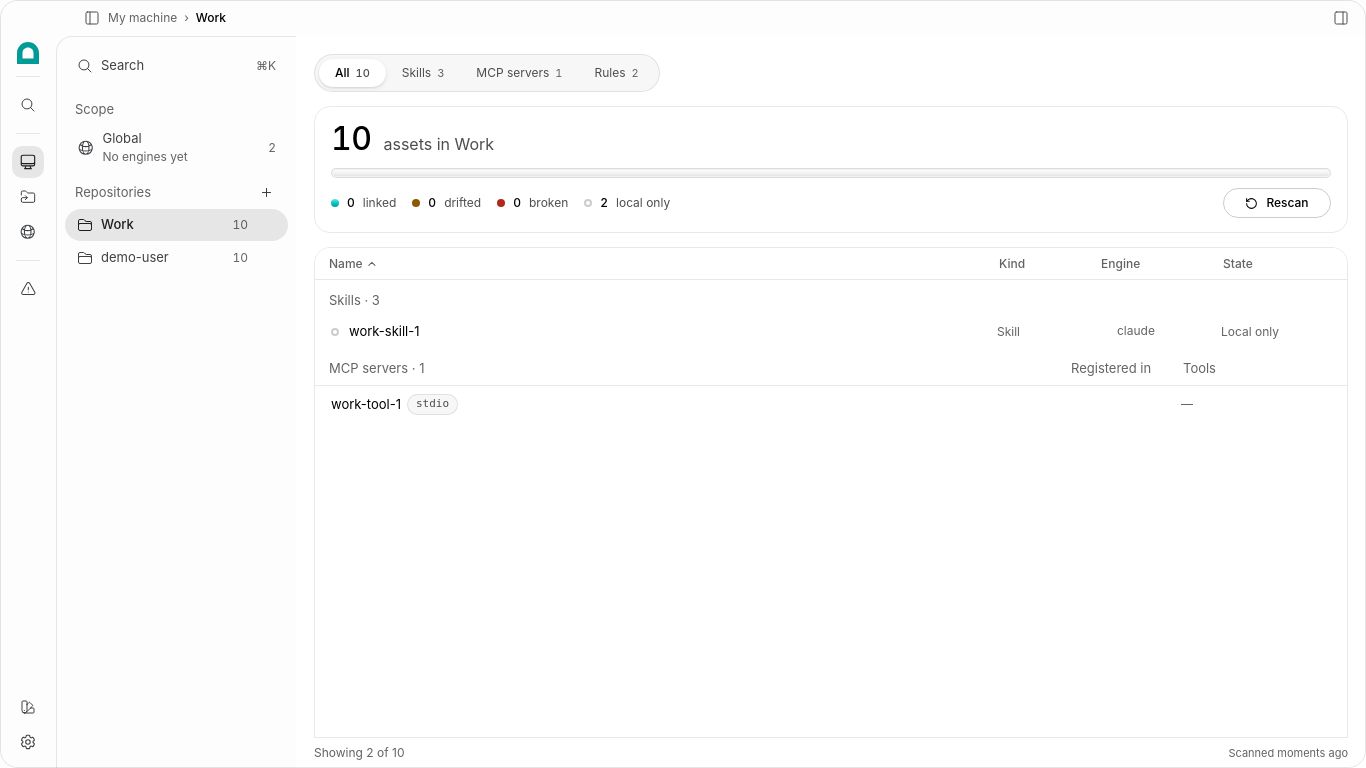
Test: Sidebar Scope Asset List Verification › asserts all three scopes (Work, demo-user, Global) render a non-empty asset list
This screenshot has width=1366, height=768.
Expected: the text "work-skill-1" is shown, [349, 322, 420, 341]
# demo-user Repository Scope
Click the text "demo-user".
click(135, 257)  # box [101, 249, 169, 265]
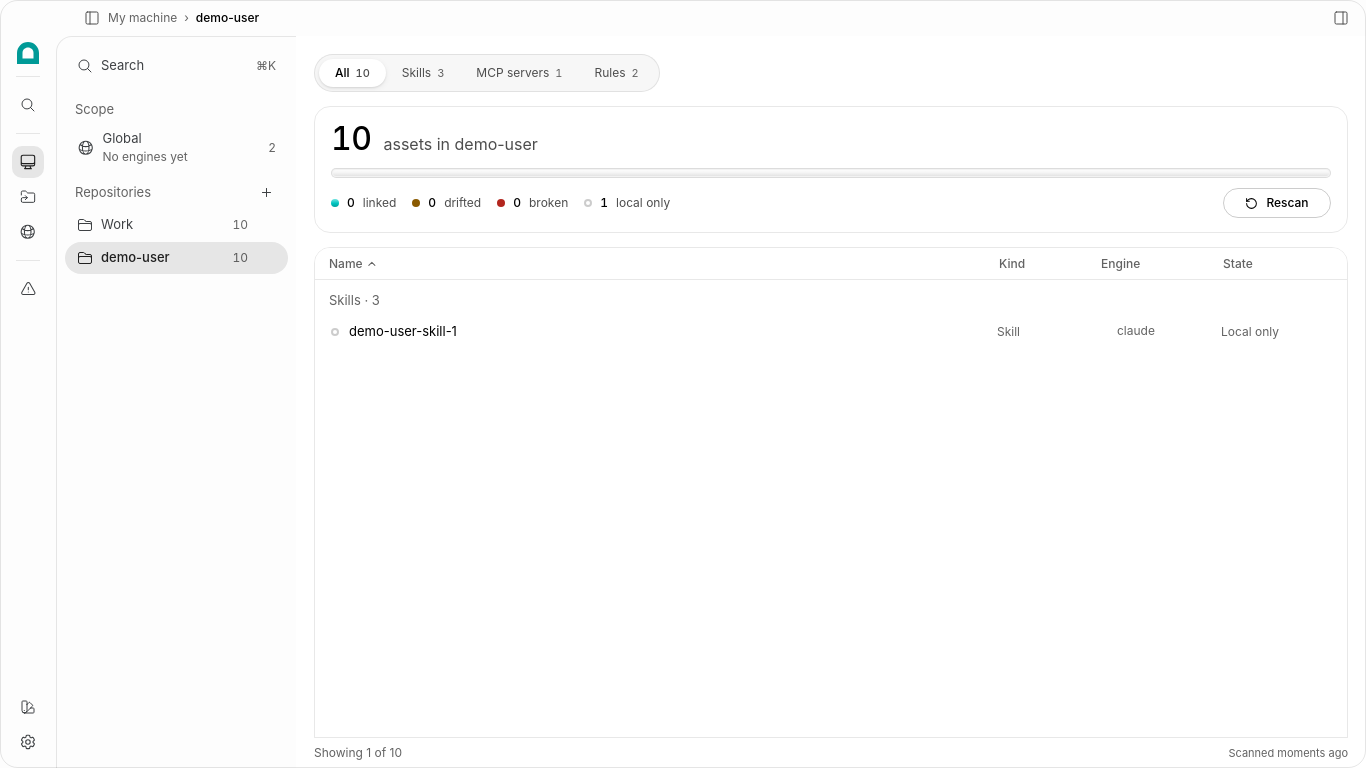
Expected: the text "demo-user-skill-1" is shown, [349, 322, 457, 341]
# Global scope
Click the text "Global".
click(122, 138)  # box [102, 130, 142, 146]
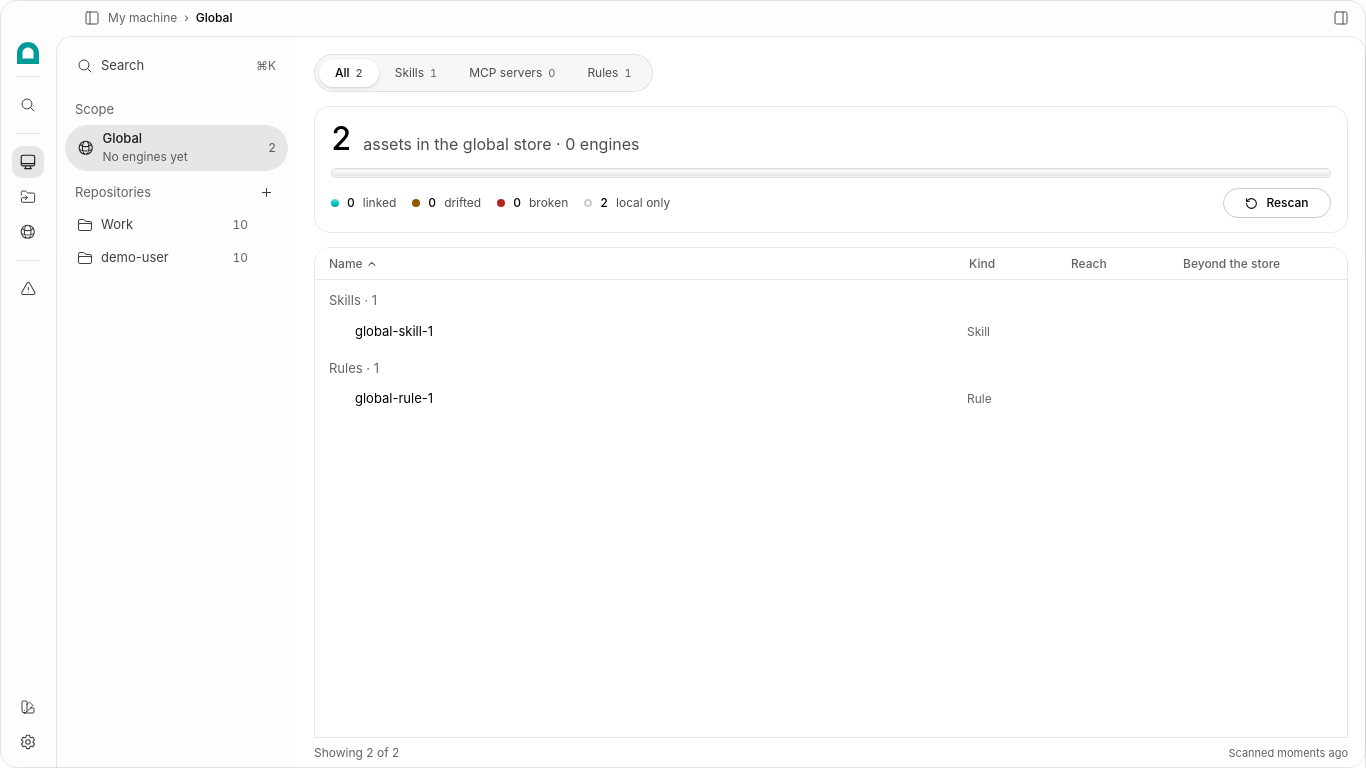
Expected: the text "global-skill-1" is shown, [355, 322, 433, 341]
